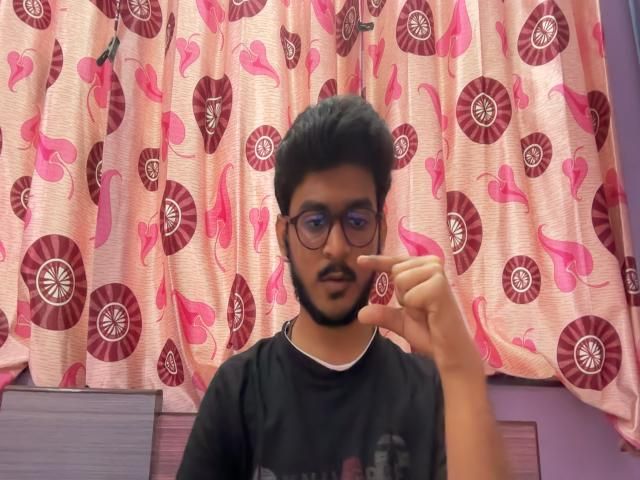No: (352, 240, 499, 398)
